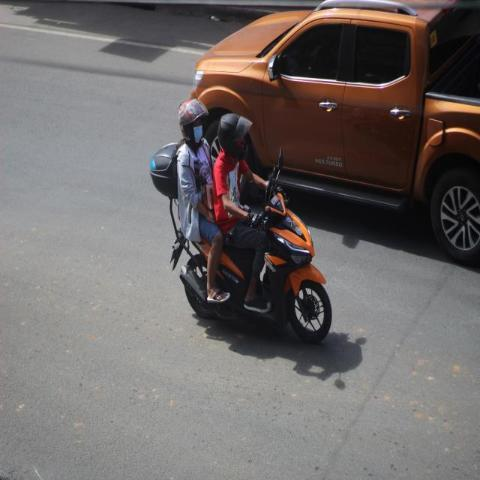motorcycle: (148, 98, 333, 345)
pickup-truck: (190, 0, 479, 267)
